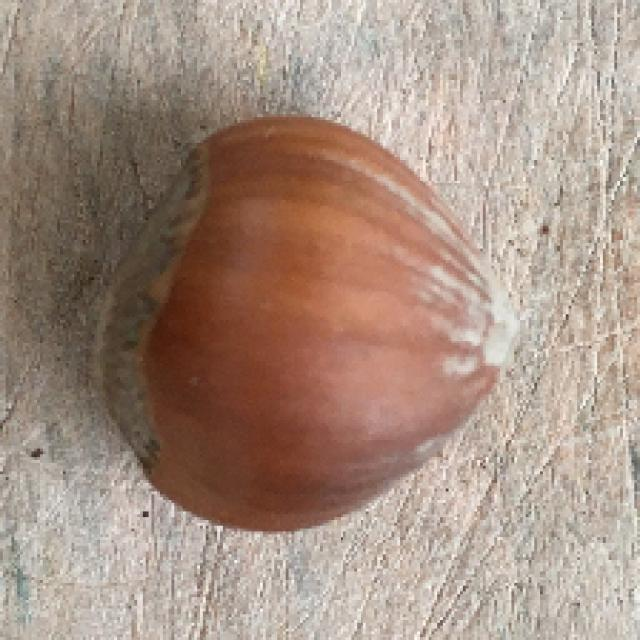damagedHazelnut: (87, 116, 522, 540)
